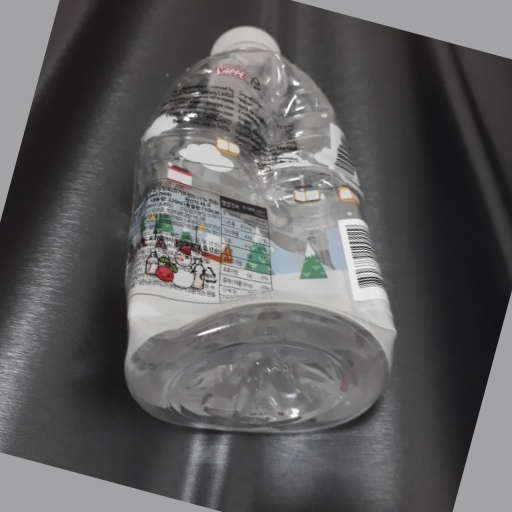Plastic_0: (122, 26, 397, 435)
